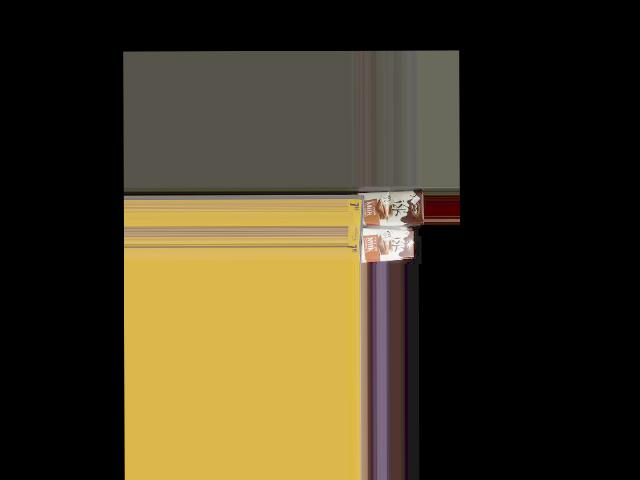chocolate: (354, 228, 415, 265)
